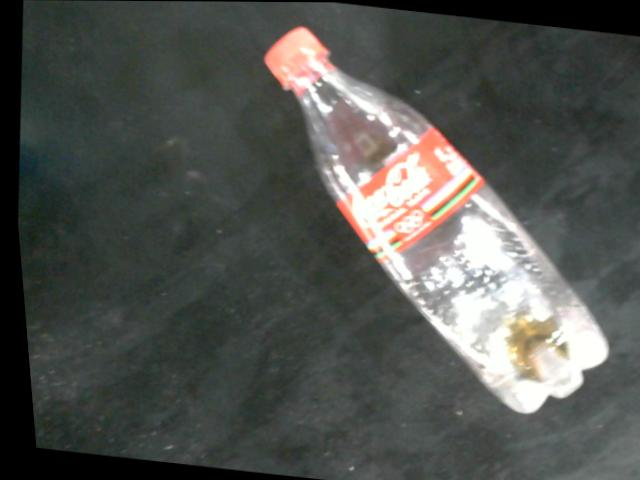bottle: (262, 26, 603, 414)
